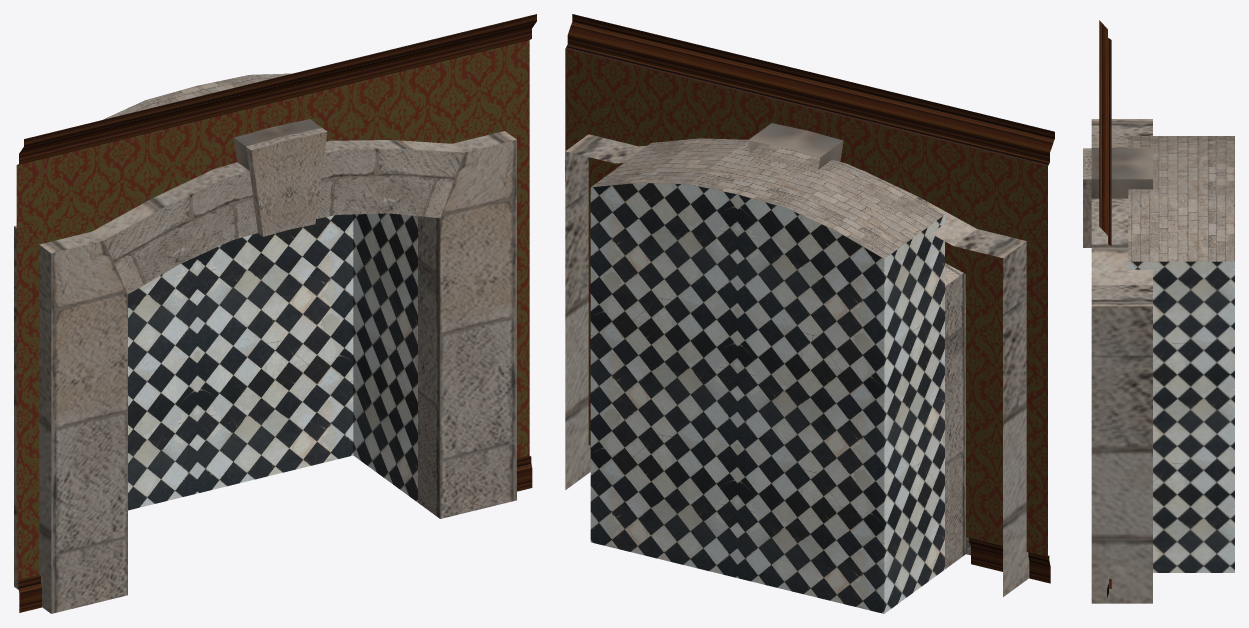
Rendered from StoveHood.fbx.
3 renders of one model, left to right at view 1: azimuth 30°, elevation 25°; view 2: azimuth 150°, elevation 25°; view 3: azimuth 270°, elevation 25°, orthographic. The views are drawn at different scales.
Parts seen in each view (by area): view 1: Plane; view 2: Plane; view 3: Plane.
Part boxes in pixels (x1,y1,x2,y2): Plane: [14, 14, 536, 613]; Plane: [565, 14, 1054, 613]; Plane: [1083, 20, 1234, 603].
Bounding box in the file's own units: 419 × 373 × 130.
